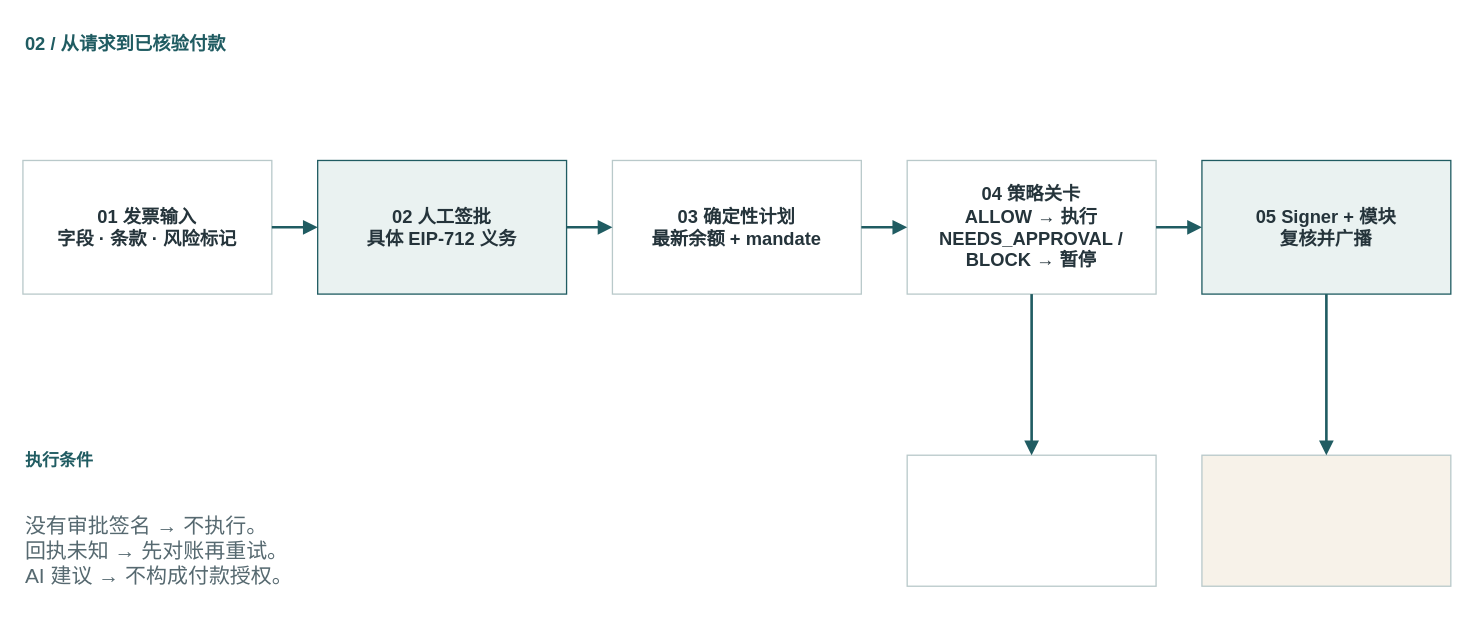
The diagram is 1474 pixels wide and 634 high, and some of its shapes have lost their labels. Each missing label, with the centre of its shape:
"06 回执与对账 核验结果 · 保存证据" goes at (x=1326, y=520).
"暂停或阻止 不提交交易" goes at (x=1031, y=520).
